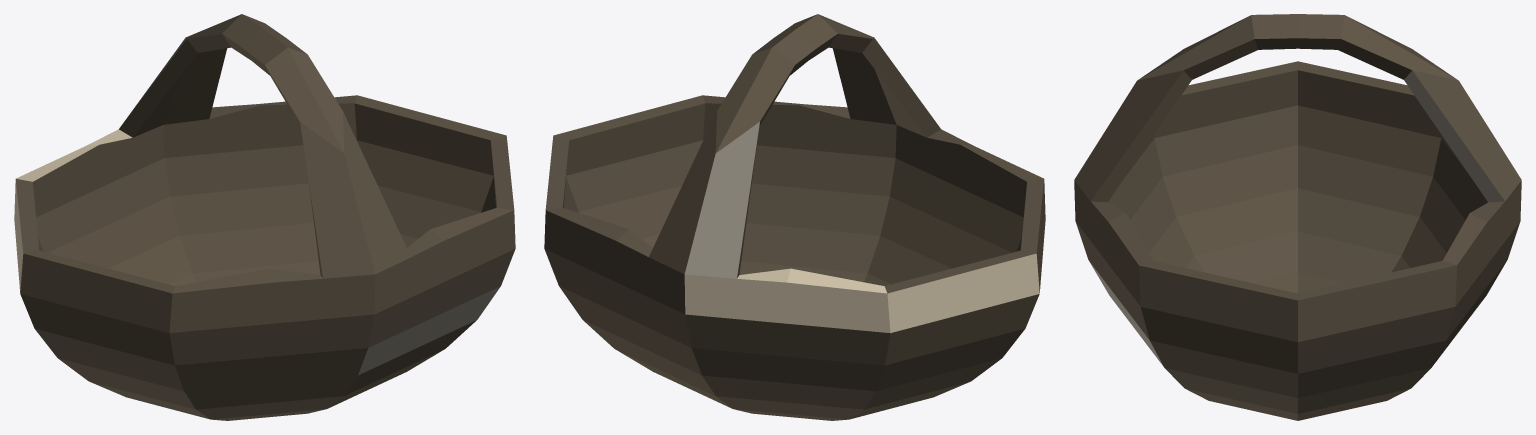
File: basket.fbx
The picture shows the model from 3 angles, left to right: view 1: azimuth 30°, elevation 25°; view 2: azimuth 150°, elevation 25°; view 3: azimuth 270°, elevation 25°; orthographic projection.
Visible parts, largest first — view 1: Cube; view 2: Cube; view 3: Cube.
Part boxes in pixels (<box>): Cube: <box>14,14,515,420</box>; Cube: <box>544,14,1045,420</box>; Cube: <box>1074,14,1521,420</box>.
Bounding box in the file's own units: 196 × 141 × 153.
